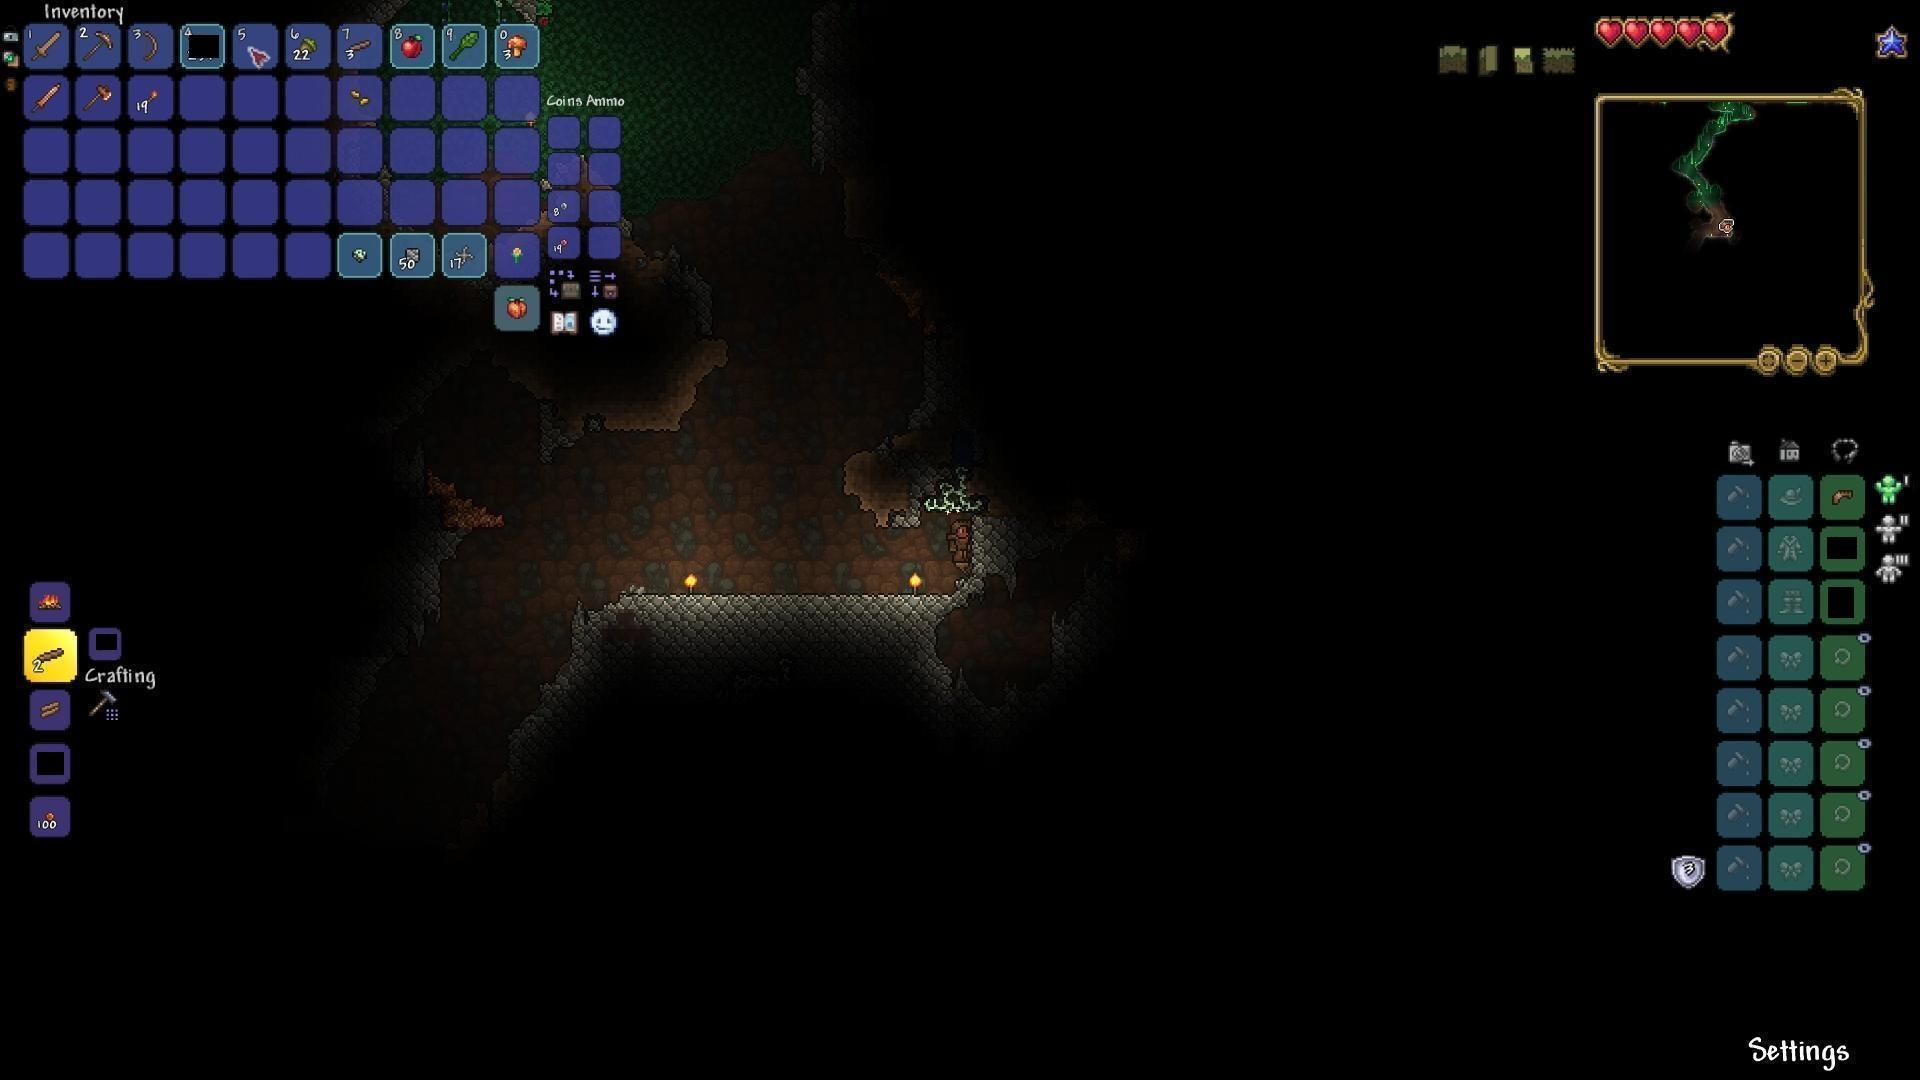helmet: (1826, 483, 1862, 513)
wood: (40, 700, 61, 719)
